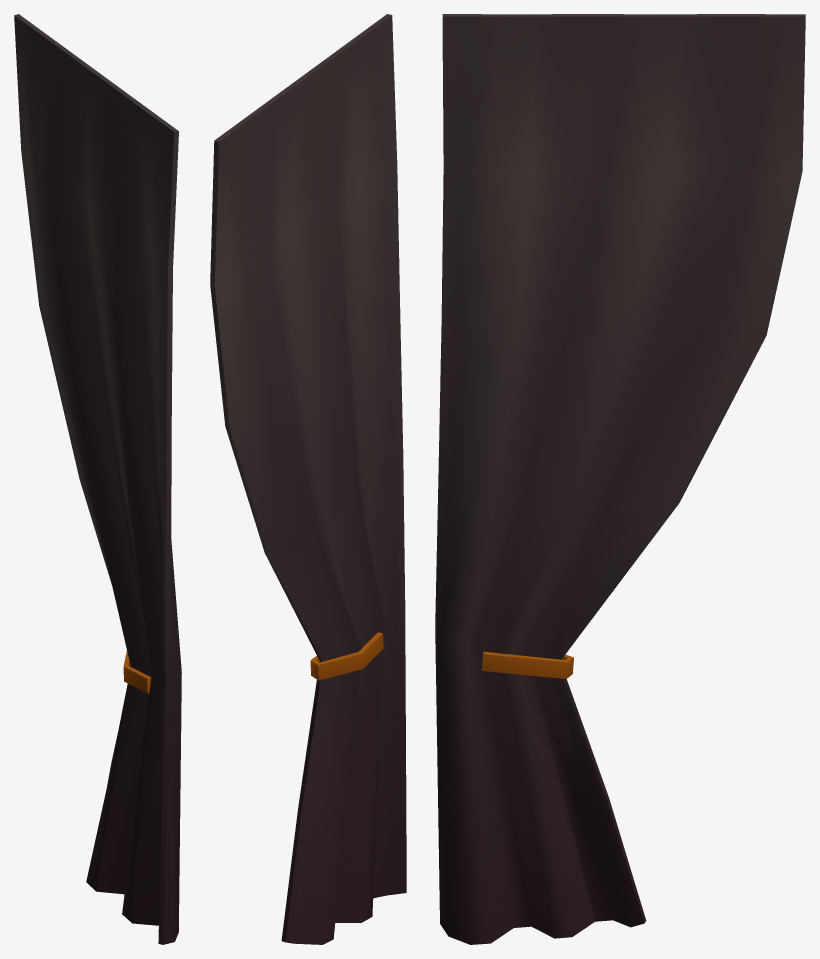
The model's file is TSP_Curtain_01B.R.fbx.
3 renders of one model, left to right at view 1: azimuth 30°, elevation 25°; view 2: azimuth 150°, elevation 25°; view 3: azimuth 270°, elevation 25°, orthographic. The views are drawn at different scales.
Visible parts, largest first — view 1: TSP_Curtain_01B.R; view 2: TSP_Curtain_01B.R; view 3: TSP_Curtain_01B.R.
Boxes of the visible parts, x1,y1,x2,y2 form: TSP_Curtain_01B.R: [14, 14, 181, 944]; TSP_Curtain_01B.R: [210, 14, 406, 944]; TSP_Curtain_01B.R: [435, 14, 805, 944].
Size of the model in its own units: 0.1128 by 2.49 by 0.9088.
